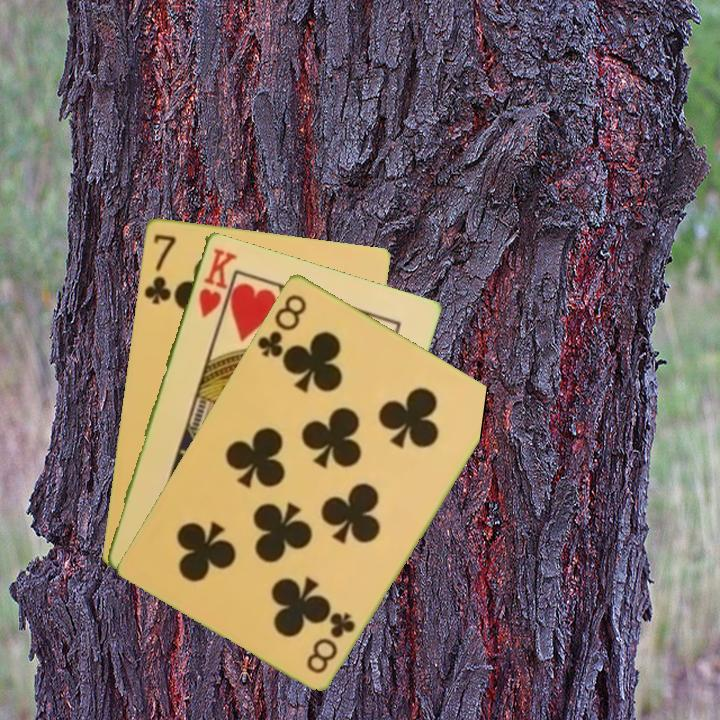7c: (140, 230, 178, 307)
8c: (253, 290, 310, 360), (302, 607, 359, 677)
Kh: (194, 244, 239, 321)
